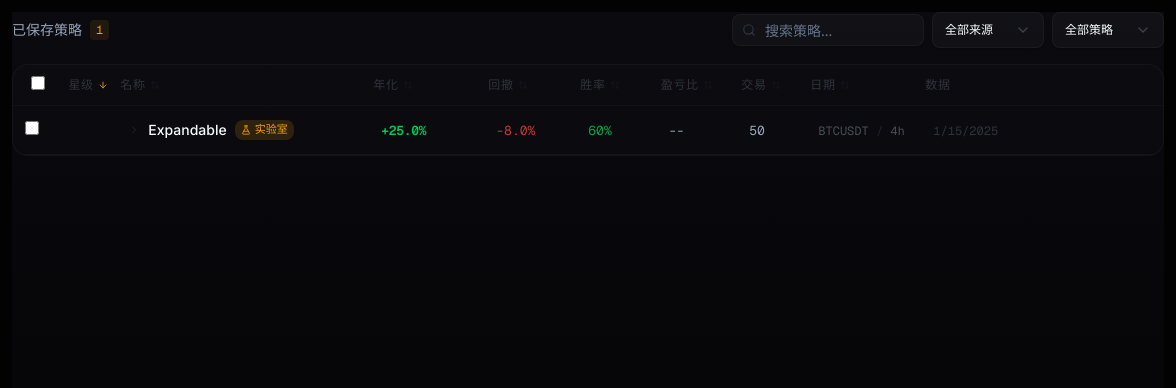
Scenario: Strategies page › shows expand panel with strategy info when row name is clicked
Step 1. Click the text "Expandable" → point(188, 130), box [148,120,227,140]
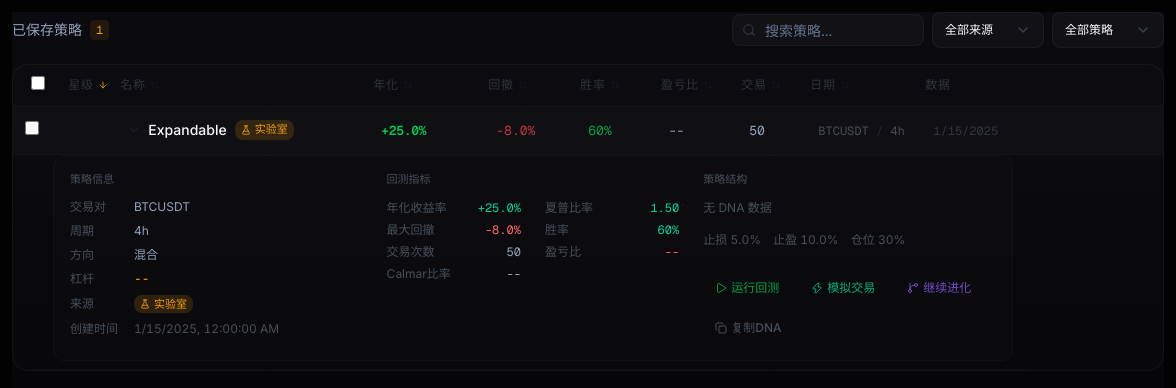
Now the text "策略信息" is shown, box [70,172,114,186]
Now the text "策略结构" is shown, box [703,172,747,186]
